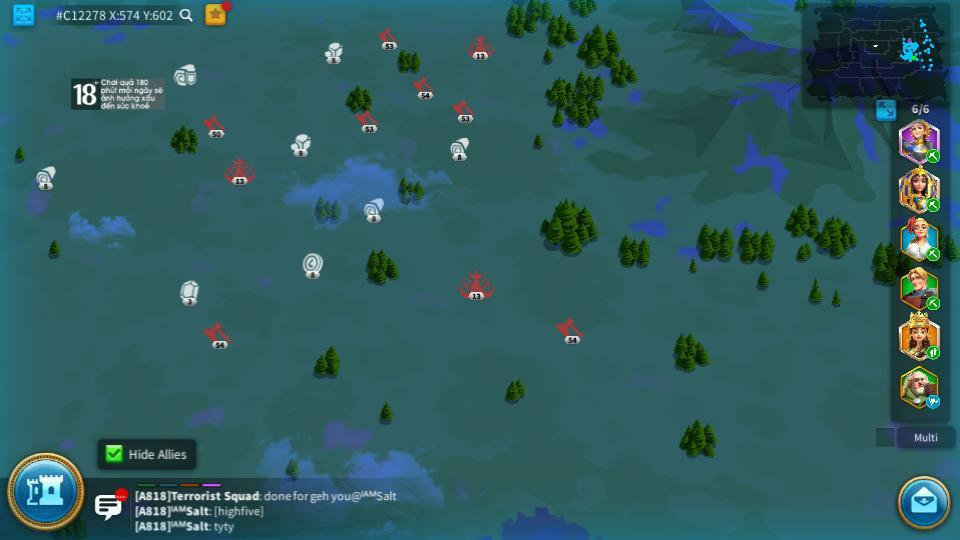gem-z-out: (179, 280, 200, 305)
march_farming: (925, 197, 941, 212), (925, 297, 942, 310), (926, 248, 941, 261)
march_idle: (925, 396, 942, 408)
march_marching: (925, 345, 941, 359), (925, 150, 942, 162)
